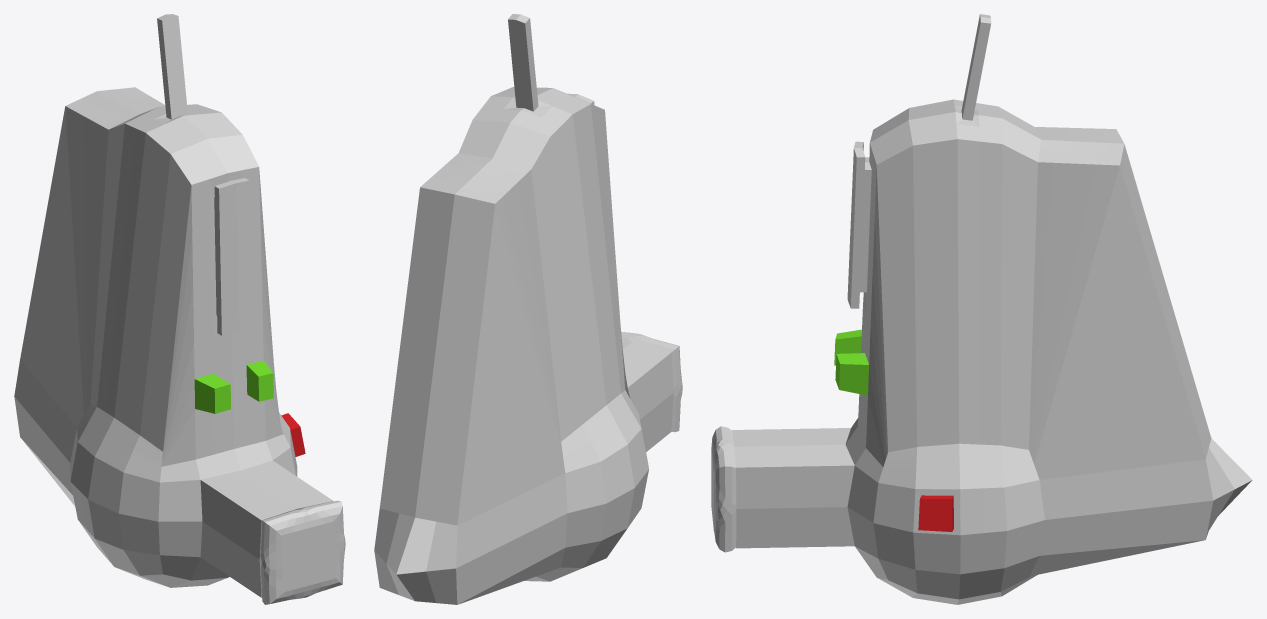
Rendered from cek.fbx.
3 renders of one model, left to right at view 1: azimuth 30°, elevation 25°; view 2: azimuth 150°, elevation 25°; view 3: azimuth 270°, elevation 25°, orthographic. The views are drawn at different scales.
Visible parts, largest first — view 1: Cube; view 2: Cube; view 3: Cube.
Part boxes in pixels (x1,y1,x2,y2): Cube: (14, 14, 345, 604); Cube: (374, 14, 682, 604); Cube: (711, 14, 1252, 604).
Bounding box in the file's own units: 96.62 × 247 × 211.
